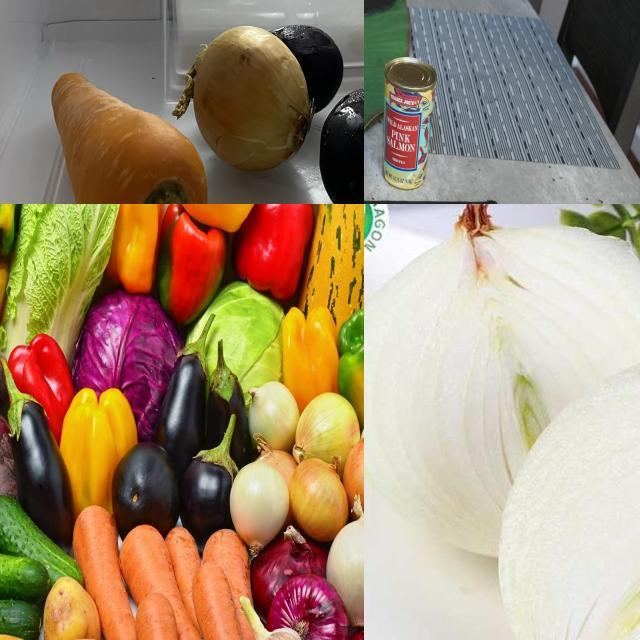beet: (1, 449, 13, 512)
bell_pepper: (65, 383, 132, 510), (281, 292, 341, 411), (10, 331, 77, 431), (164, 205, 221, 311), (243, 205, 307, 295), (114, 205, 164, 295), (340, 308, 365, 422), (165, 205, 262, 223)
cabbage: (78, 290, 177, 435), (193, 283, 286, 402)
carrot: (47, 70, 215, 205), (76, 506, 136, 640), (194, 566, 287, 640), (123, 531, 184, 615), (204, 523, 248, 623), (168, 525, 208, 618), (141, 590, 177, 640)
cucumber: (1, 504, 78, 583), (1, 535, 45, 597), (1, 584, 36, 634)
eggplant: (272, 29, 348, 115), (117, 443, 181, 533), (320, 83, 365, 205), (188, 443, 239, 538), (164, 349, 209, 451), (212, 354, 248, 460)
garlic: (248, 612, 298, 640)
onion: (365, 205, 640, 569), (497, 363, 640, 640), (172, 25, 314, 185), (9, 387, 73, 533), (233, 465, 289, 549), (289, 455, 345, 537), (274, 571, 340, 640), (299, 397, 353, 473), (249, 382, 299, 450), (331, 522, 365, 620), (343, 430, 365, 522)
potato: (48, 575, 99, 640)
zucchini: (303, 205, 365, 316)
